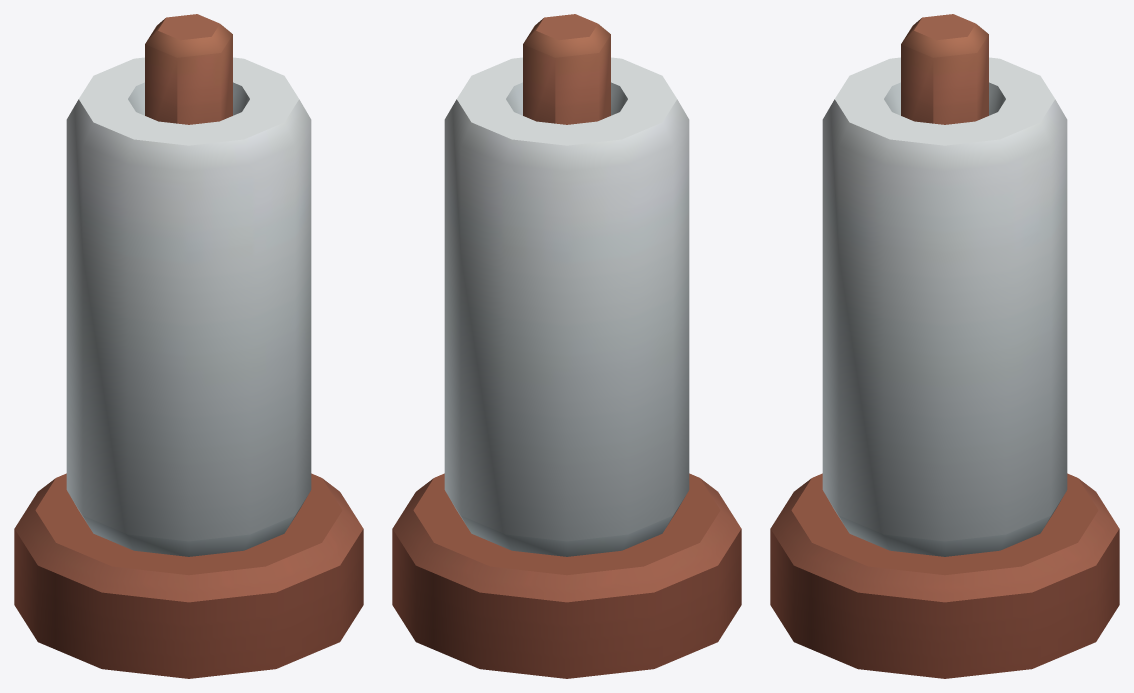
Rendered from papertowel.glb.
The picture shows the model from 3 angles, left to right: view 1: azimuth 30°, elevation 25°; view 2: azimuth 150°, elevation 25°; view 3: azimuth 270°, elevation 25°; orthographic projection.
Visible parts, largest first — view 1: papertowel; view 2: papertowel; view 3: papertowel.
Part boxes in pixels (bbox=[...]): papertowel: bbox=[14, 14, 363, 678]; papertowel: bbox=[392, 14, 741, 678]; papertowel: bbox=[770, 14, 1119, 678].
Size of the model in its own units: 0.5 by 0.9138 by 0.5.
Materials: 1 (1 with a texture image).
